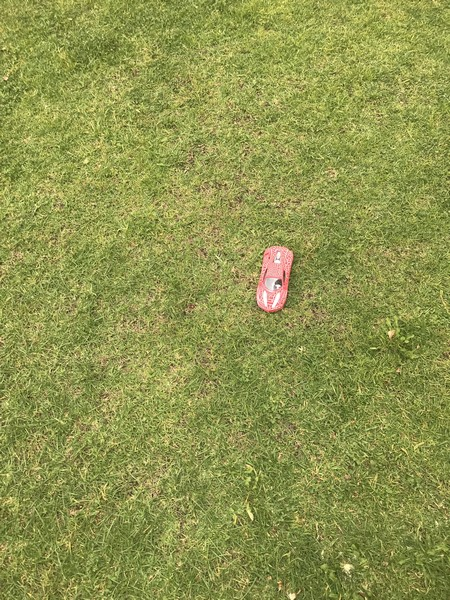RC: (257, 244, 294, 314)
